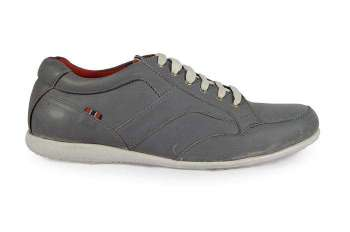Footwear: (22, 46, 322, 171)
